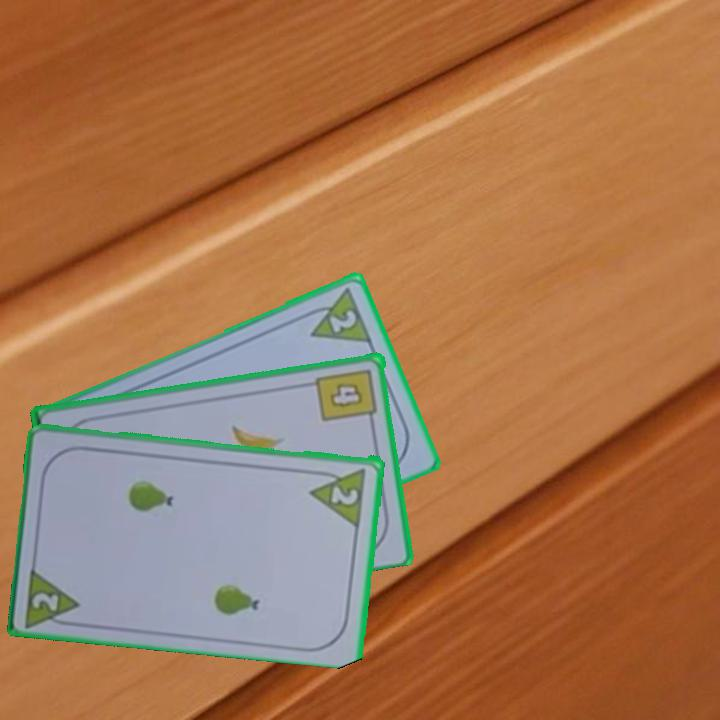2p: (300, 283, 376, 346), (21, 562, 84, 629), (328, 482, 362, 508)
4b: (313, 365, 381, 427)
